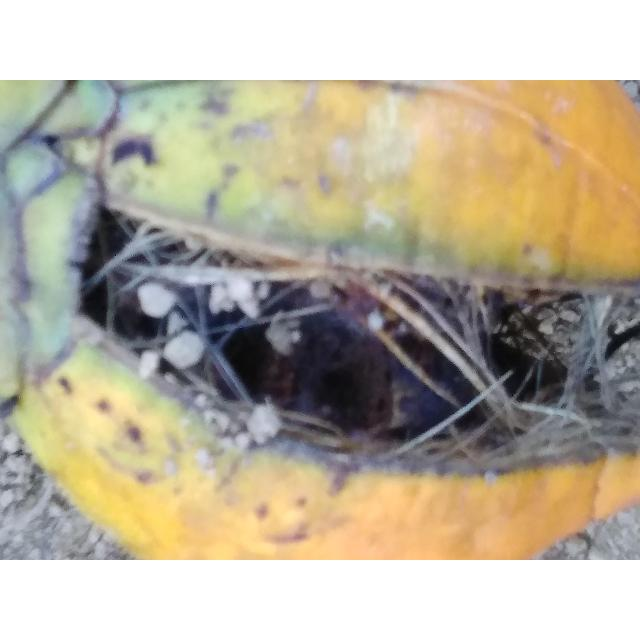damaged: (0, 80, 640, 560)
